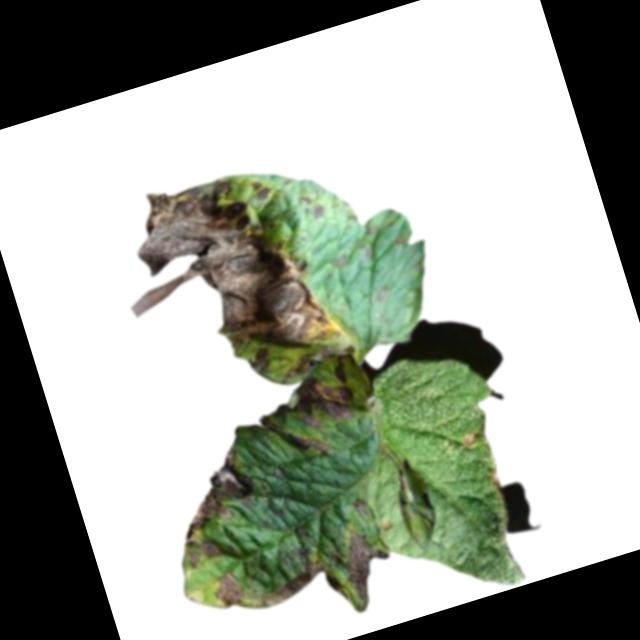Early_blight: (97, 153, 344, 417), (155, 441, 276, 574), (253, 362, 372, 472), (251, 548, 350, 622), (335, 522, 401, 609), (206, 567, 247, 613), (458, 429, 483, 451), (488, 467, 504, 490), (351, 497, 369, 515)
